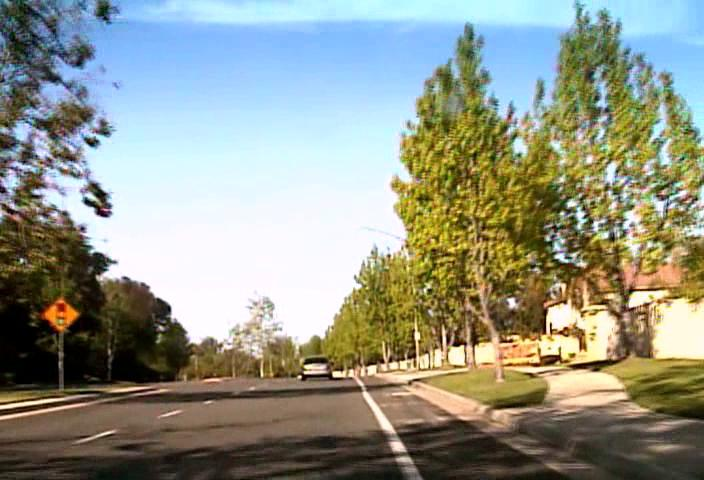signalAhead: (41, 294, 80, 332)
